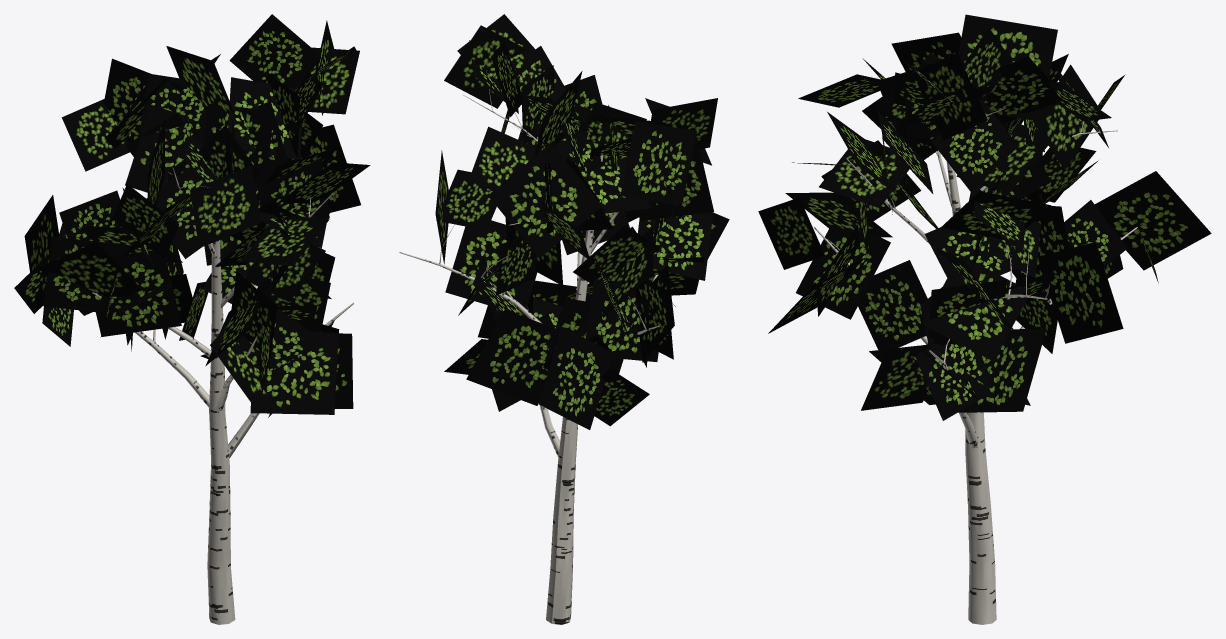
Rendered from birch_2.glb.
The picture shows the model from 3 angles, left to right: view 1: azimuth 30°, elevation 25°; view 2: azimuth 150°, elevation 25°; view 3: azimuth 270°, elevation 25°; orthographic projection. The views are drawn at different scales.
Parts seen in each view (by area): view 1: birch_2Leaves, birch_2Wood; view 2: birch_2Leaves, birch_2Wood; view 3: birch_2Leaves, birch_2Wood.
Part boxes in pixels (x1,y1,x2,y2): birch_2Leaves: [14, 14, 370, 417]; birch_2Wood: [45, 89, 353, 624]; birch_2Leaves: [435, 14, 729, 429]; birch_2Wood: [399, 70, 659, 624]; birch_2Leaves: [758, 14, 1211, 420]; birch_2Wood: [813, 76, 1137, 624].
Size of what is drawn, in the model's own units: 3.22 by 6.27 by 4.15.
2 materials, 2 textured.
